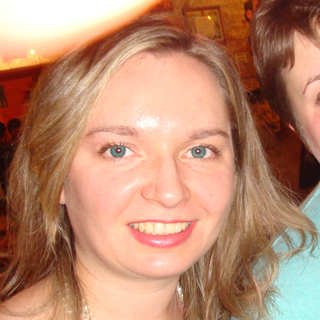eye: (173, 140, 224, 164), (95, 140, 142, 166)
